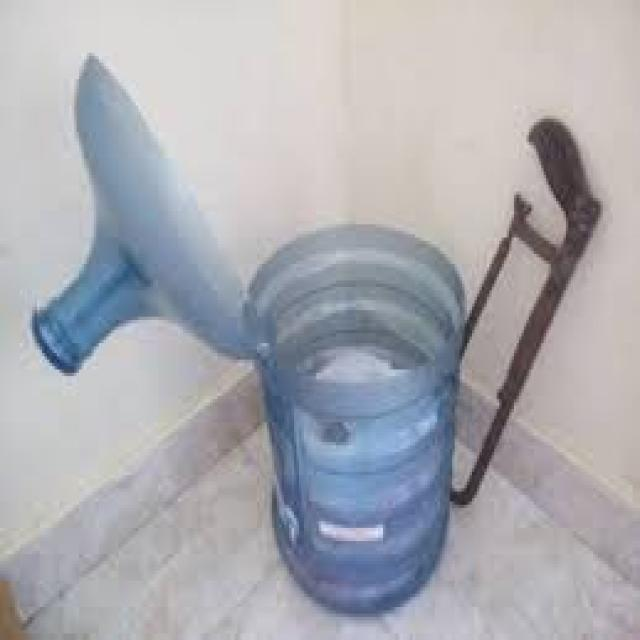Galon: (27, 46, 603, 617)
